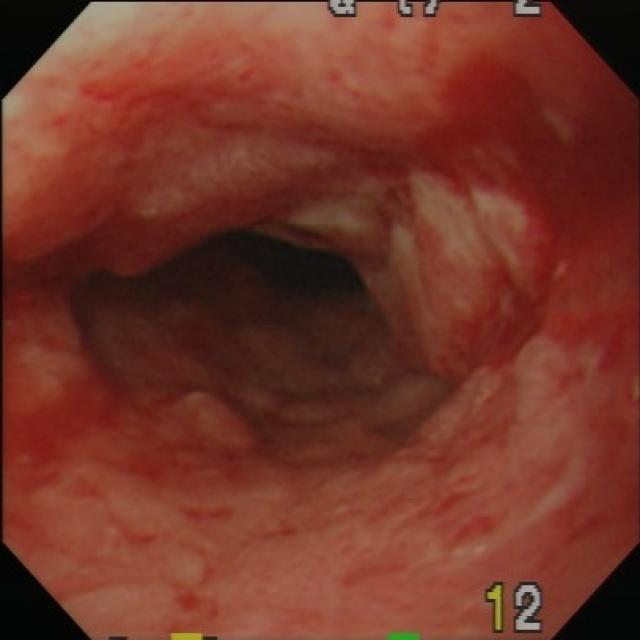A: (377, 393, 547, 554)
B: (322, 76, 564, 388), (31, 59, 333, 290), (50, 324, 339, 547)
C: (422, 51, 640, 347), (4, 379, 135, 487)
E: (124, 220, 378, 328)
S: (485, 581, 547, 636), (325, 3, 545, 18)
